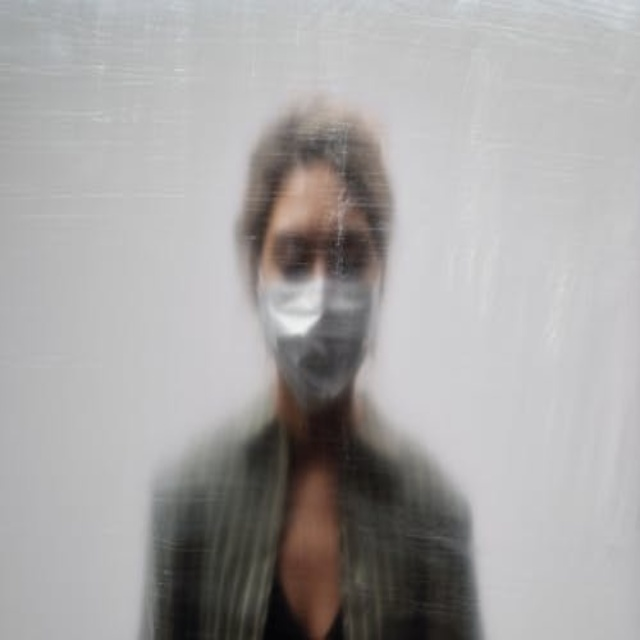Mascara: (257, 259, 377, 412)
Sin_gafas: (269, 228, 375, 281)
